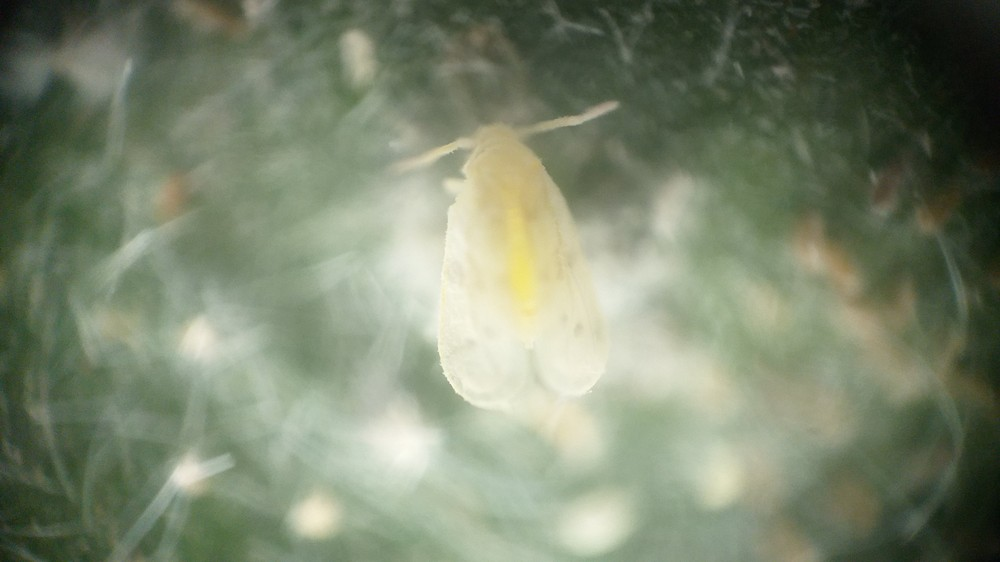Mosca Blanca: (373, 100, 689, 429)
